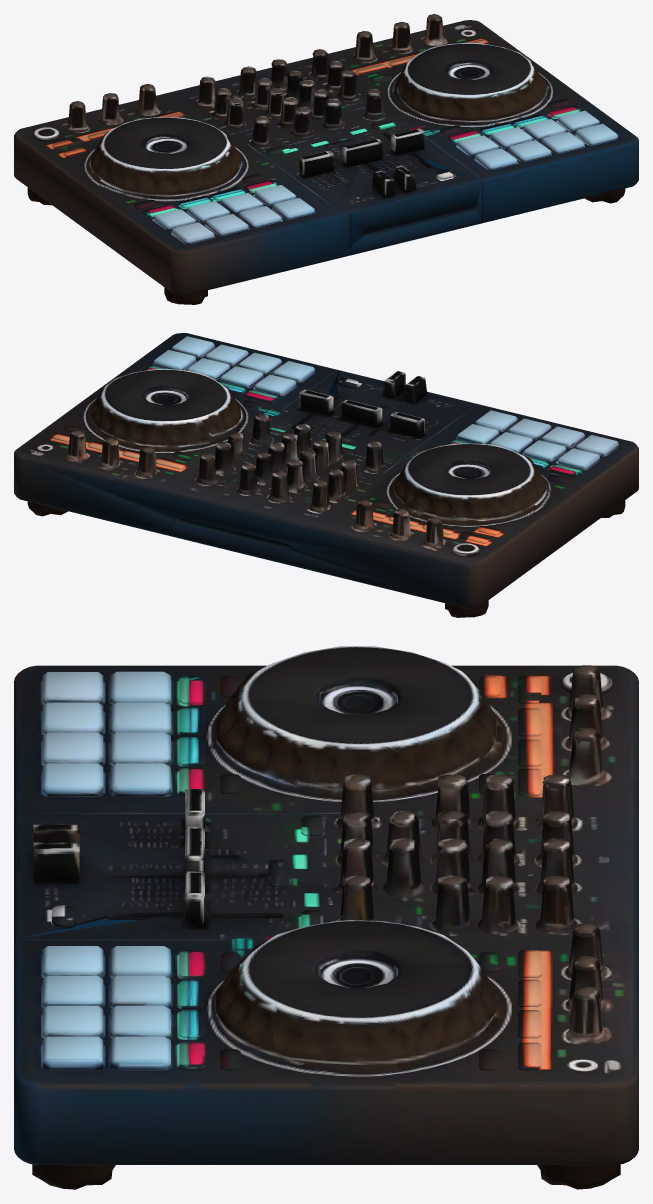
File: Electronics__dj_mixer_baeeec4e_v1.cluster.glb
The picture shows the model from 3 angles, top to bottom: view 1: azimuth 30°, elevation 25°; view 2: azimuth 150°, elevation 25°; view 3: azimuth 270°, elevation 25°; orthographic projection. The views are drawn at different scales.
Parts seen in each view (by area): view 1: material; view 2: material; view 3: material.
Boxes of the visible parts, x1,y1,x2,y2 form: material: (14, 14, 638, 304); material: (14, 333, 638, 617); material: (14, 646, 638, 1189).
Size of the model in its own units: 1.9 by 0.3287 by 1.19.
1 material, 1 textured.
